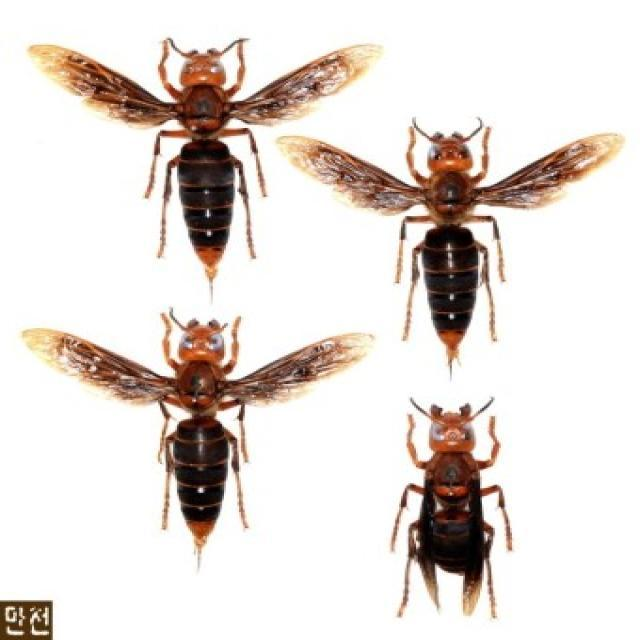Wasp: (21, 296, 374, 561), (122, 26, 276, 285), (392, 112, 504, 353), (403, 389, 508, 616)
